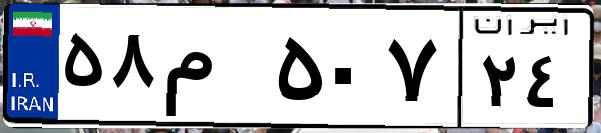0: (330, 28, 385, 110)
2: (475, 38, 525, 113)
4: (525, 38, 570, 115)
5: (270, 28, 330, 110), (57, 26, 110, 100)
7: (385, 28, 445, 110)
8: (110, 28, 158, 98)
م: (158, 20, 270, 120)
